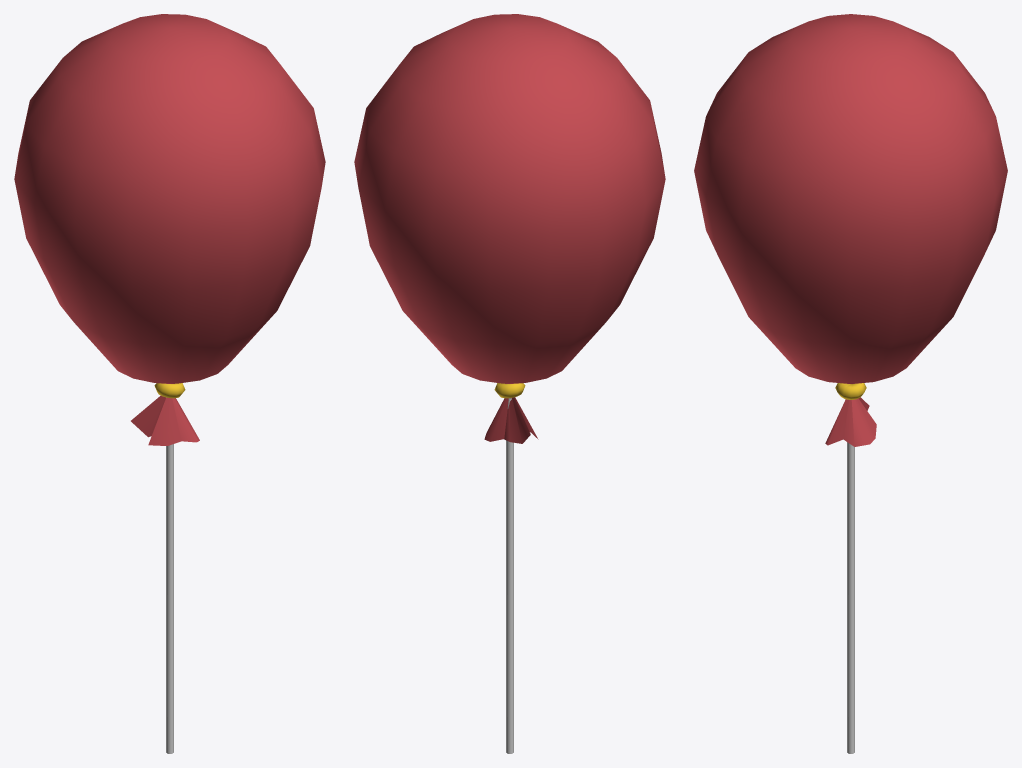
Rendered from SM_Balloon.fbx.
3 renders of one model, left to right at view 1: azimuth 30°, elevation 25°; view 2: azimuth 150°, elevation 25°; view 3: azimuth 270°, elevation 25°, orthographic.
Parts seen in each view (by area): view 1: SM_Balloon; view 2: SM_Balloon; view 3: SM_Balloon.
Part boxes in pixels (x1,y1,x2,y2): SM_Balloon: (14,14,325,753); SM_Balloon: (354,14,665,753); SM_Balloon: (694,14,1007,753).
Bounding box in the file's own units: 160 × 407 × 160.
Materials: 1 (1 with a texture image).
